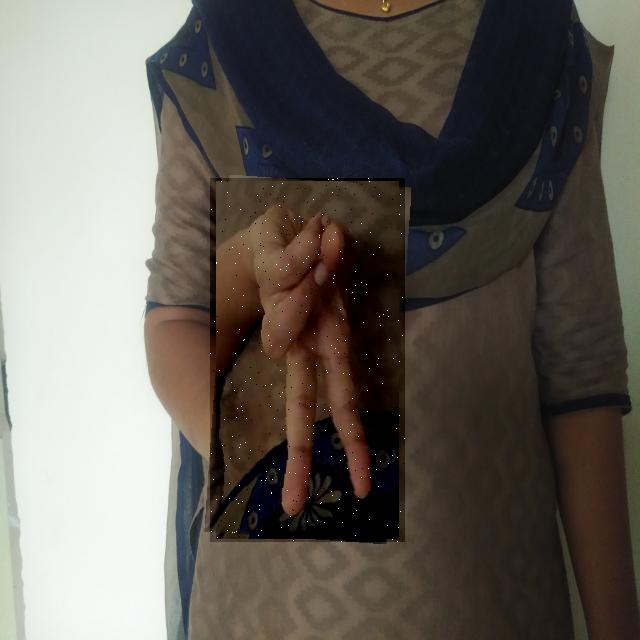V: (210, 178, 405, 542)
